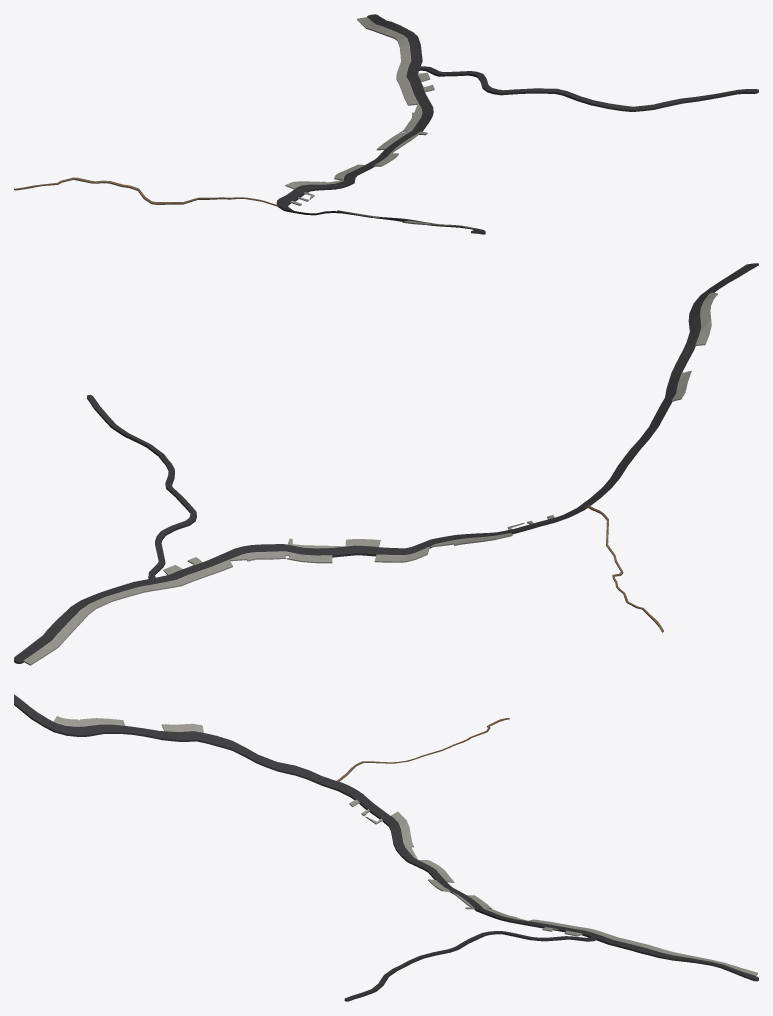
3 renders of one model, top to bottom at view 1: azimuth 30°, elevation 25°; view 2: azimuth 150°, elevation 25°; view 3: azimuth 270°, elevation 25°, orthographic. The views are drawn at different scales.
Size of the model in its own units: 418 by 101 by 459.
